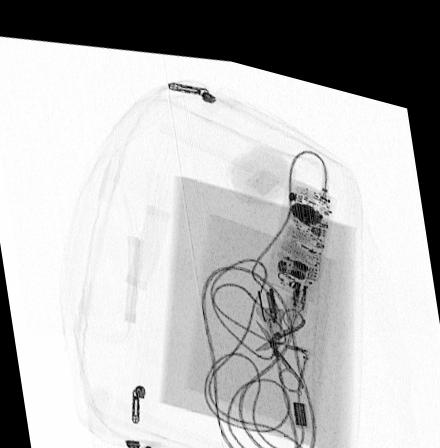Scissors: (252, 291, 305, 380)
